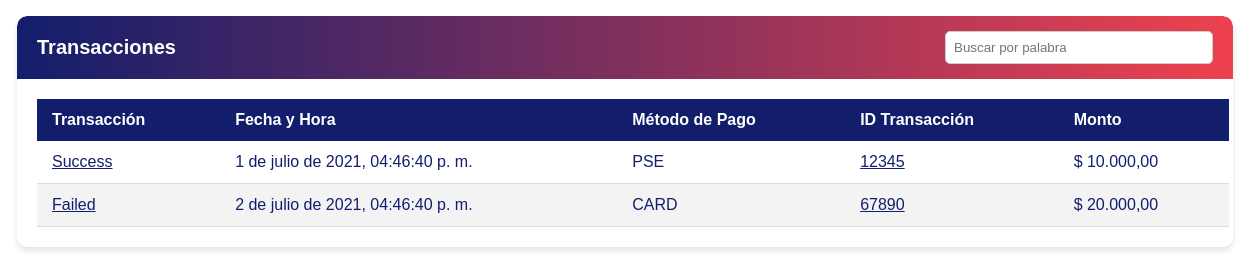
Test: renders transactions and filters them based on search term
Expected: the text "Success" is shown, [37,141,220,184]
Expected: the text "Failed" is shown, [37,184,220,226]
Type "PSE" into the field with placeholder "Buscar por palabra".
click(1079, 48); type("PSE")  # box [945,31,1213,64]
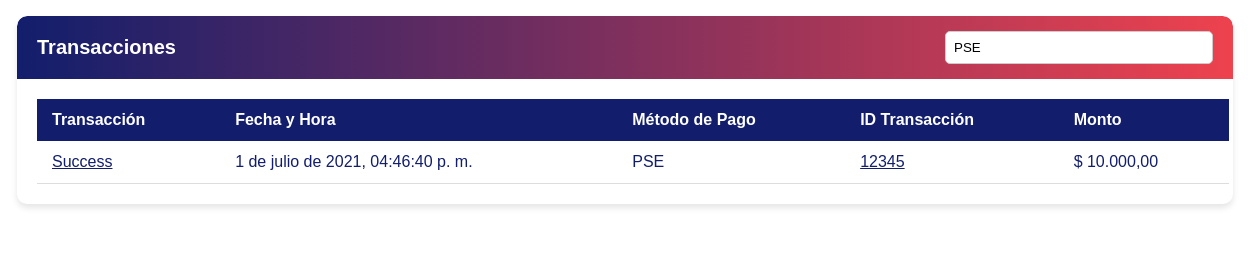
Expected: the text "Success" is shown, [37,141,220,184]
Expected: the text "Failed" is gone
